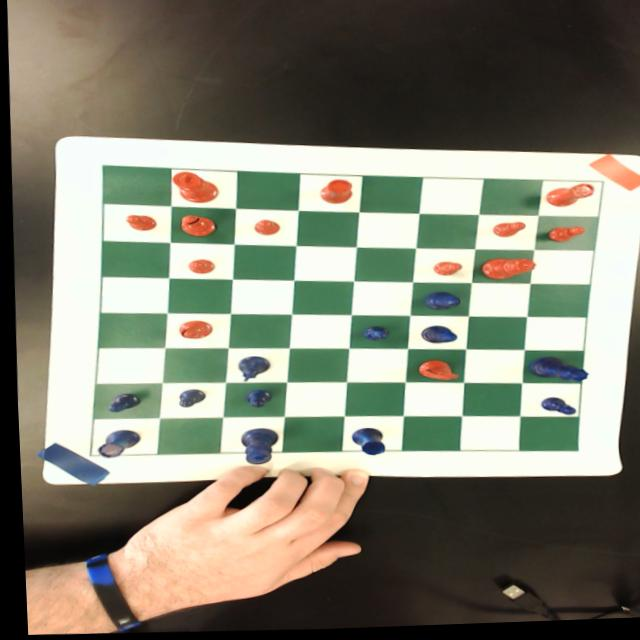B: (418, 293, 458, 314), (415, 328, 454, 348)
K: (234, 429, 274, 467)
N: (228, 356, 268, 385)
P: (535, 400, 573, 421), (102, 392, 135, 414), (172, 389, 203, 411), (239, 391, 268, 410), (357, 328, 386, 343)
Q: (524, 359, 585, 388)
R: (91, 429, 137, 459), (345, 429, 382, 459)
b: (177, 215, 214, 239), (174, 320, 209, 341)
k: (168, 171, 216, 205)
n: (412, 362, 456, 385)
p: (542, 229, 582, 247), (121, 213, 155, 233), (489, 225, 523, 242), (248, 220, 278, 238), (430, 264, 459, 280), (184, 259, 213, 275)
q: (477, 259, 533, 284)
r: (542, 185, 594, 212), (316, 181, 349, 206)
